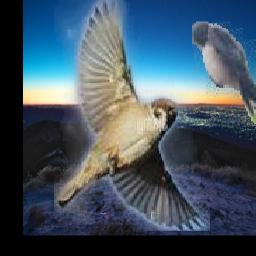Sparrow: (54, 0, 210, 232)
Swallow: (192, 21, 256, 124)
